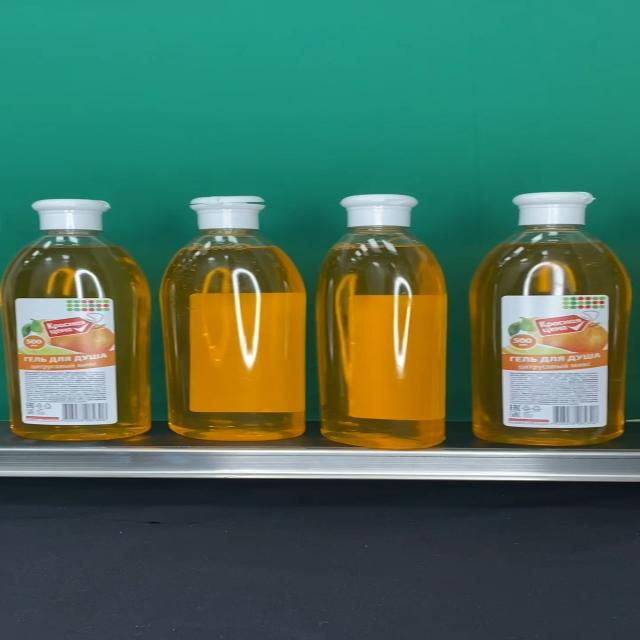Bottle: (470, 192, 633, 445), (1, 198, 152, 440), (159, 196, 308, 440), (318, 195, 448, 449)
Cap: (511, 192, 598, 227), (338, 195, 420, 228), (31, 198, 109, 232), (188, 197, 265, 231)
